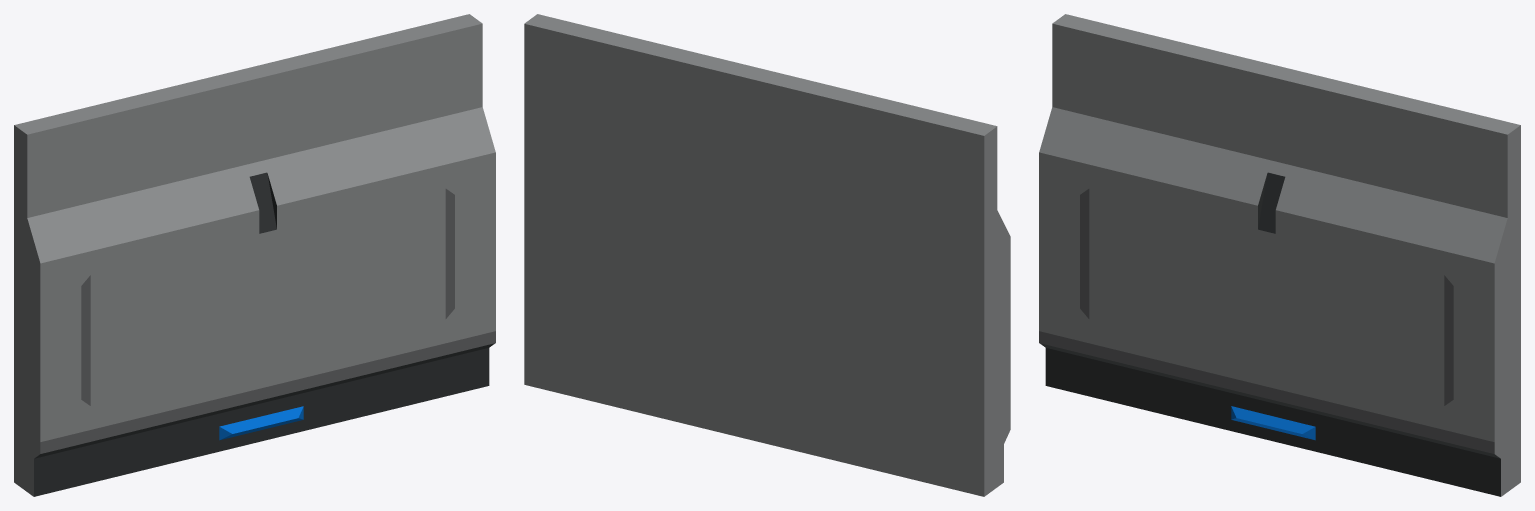
The model's file is Wall_type_B_041.fbx.
3 views of the same model, side by side, from view 1: azimuth 30°, elevation 25°; view 2: azimuth 150°, elevation 25°; view 3: azimuth 330°, elevation 25° (orthographic).
Visible parts, largest first — view 1: Wall_type_B_041; view 2: Wall_type_B_041; view 3: Wall_type_B_041.
Boxes of the visible parts, <box> form: Wall_type_B_041: <box>14,14,495,496</box>; Wall_type_B_041: <box>524,14,1010,496</box>; Wall_type_B_041: <box>1039,14,1520,496</box>.
Bounding box in the file's own units: 200 × 20 × 150.
